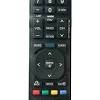remote control: (25, 0, 74, 100)
